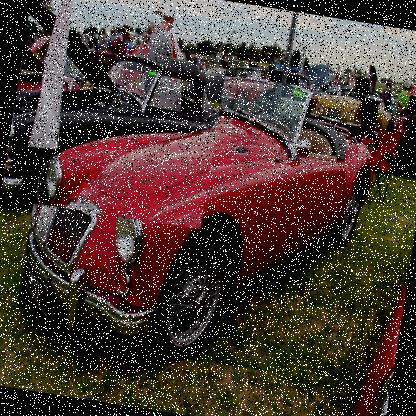Car: (12, 47, 385, 384), (0, 0, 233, 231), (347, 280, 406, 415), (306, 83, 393, 136), (200, 56, 277, 115)
